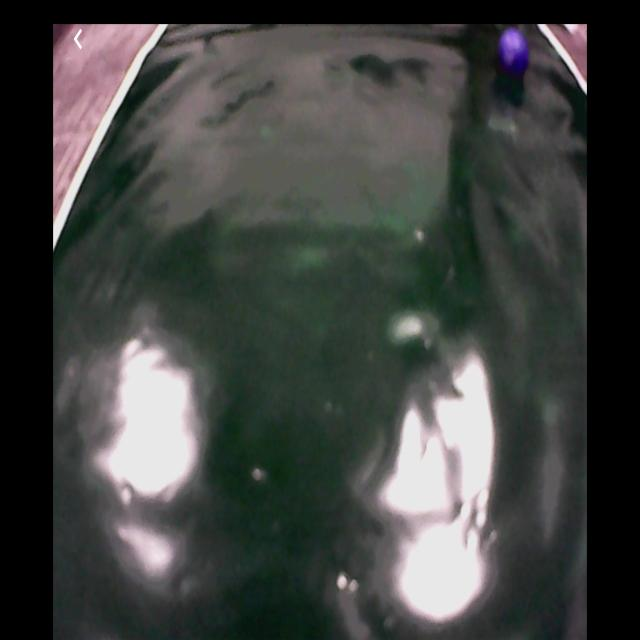ball: (499, 29, 530, 77)
